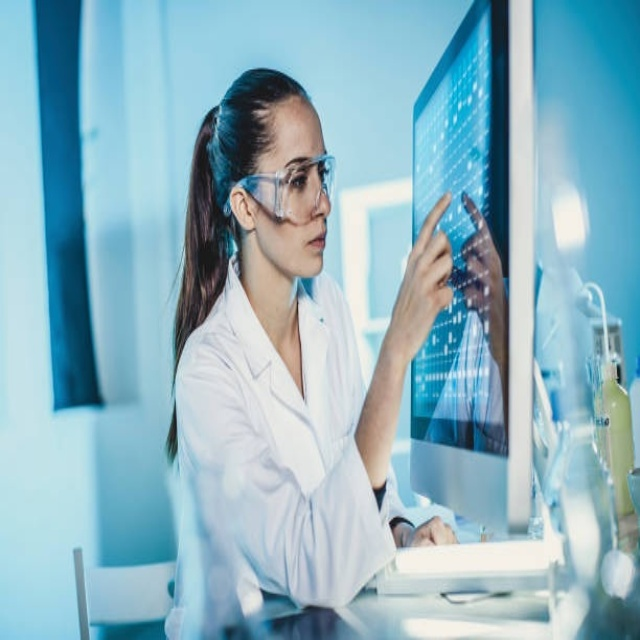Gafas: (231, 156, 336, 225)
Sin_guantes: (387, 189, 460, 348), (453, 192, 505, 337), (402, 513, 458, 548)
Sin_mascara: (290, 232, 327, 278)
